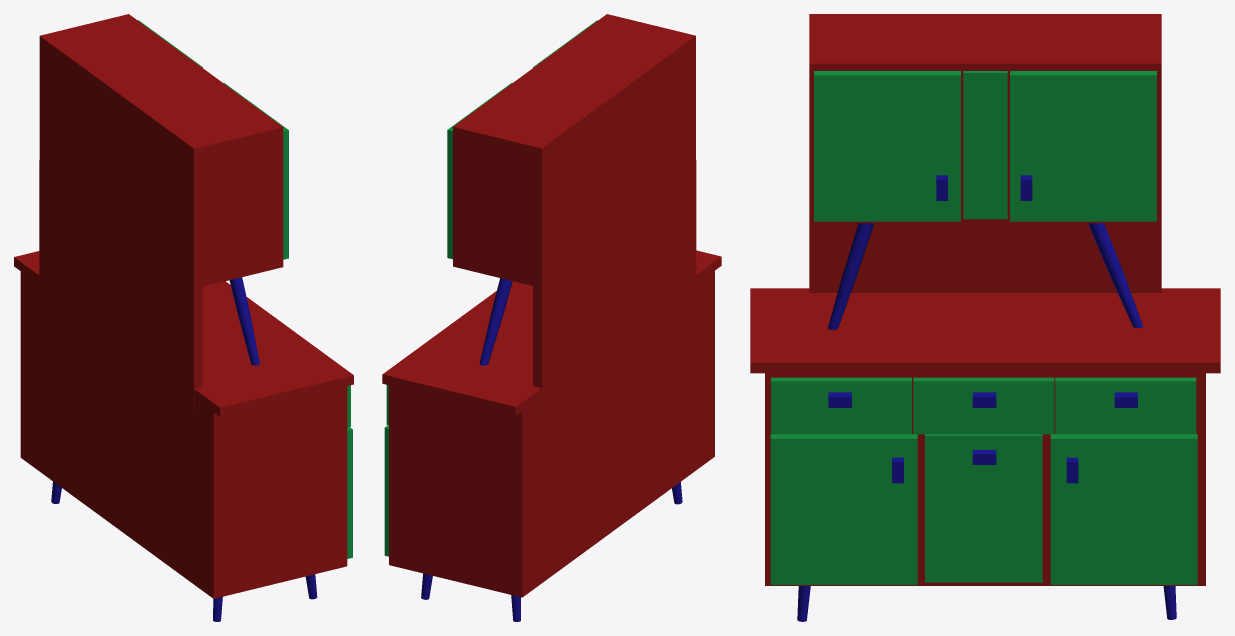
File: SM_Vaissellier.FBX
3 renders of one model, left to right at view 1: azimuth 30°, elevation 25°; view 2: azimuth 150°, elevation 25°; view 3: azimuth 270°, elevation 25°, orthographic. The views are drawn at different scales.
Parts seen in each view (by area): view 1: SM_Vaissellier; view 2: SM_Vaissellier; view 3: SM_Vaissellier.
Part boxes in pixels (x1,y1,x2,y2): SM_Vaissellier: (14, 14, 353, 621); SM_Vaissellier: (382, 14, 721, 621); SM_Vaissellier: (750, 14, 1220, 621).
Bounding box in the file's own units: 66.96 × 204 × 160.
